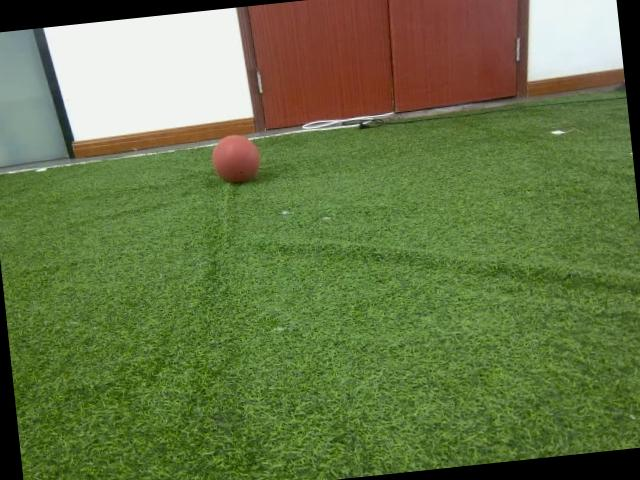red_ball: (209, 132, 263, 185)
